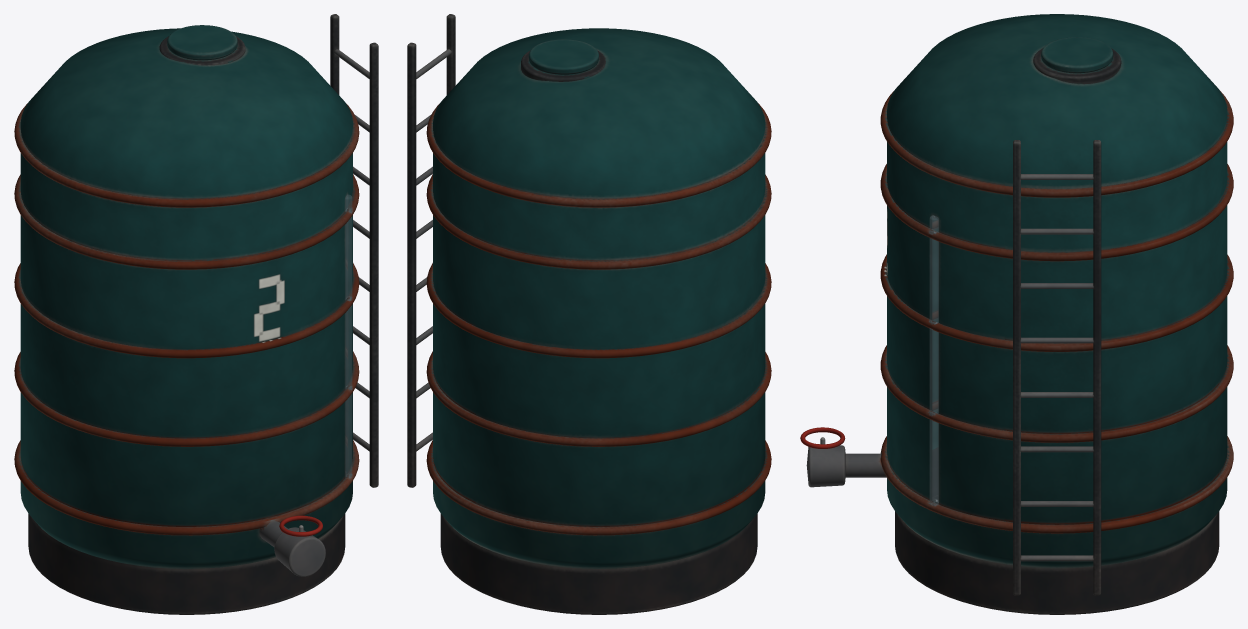
Rendered from water_tank.glb.
3 renders of one model, left to right at view 1: azimuth 30°, elevation 25°; view 2: azimuth 150°, elevation 25°; view 3: azimuth 270°, elevation 25°, orthographic. The views are drawn at different scales.
Visible parts, largest first — view 1: water_tank; view 2: water_tank; view 3: water_tank.
Part boxes in pixels (x1,y1,x2,y2): water_tank: (14, 14, 378, 614); water_tank: (407, 14, 771, 614); water_tank: (800, 14, 1233, 614).
Size of the model in its own units: 1.89 by 2.8 by 2.16.
1 material, 1 textured.
